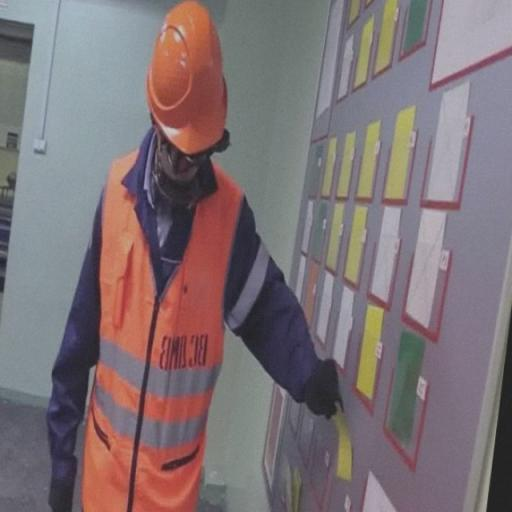Person: (17, 0, 351, 510)
gloves: (292, 356, 350, 426), (40, 462, 86, 509)
helmet: (138, 2, 234, 164)
vest: (84, 152, 236, 508)
